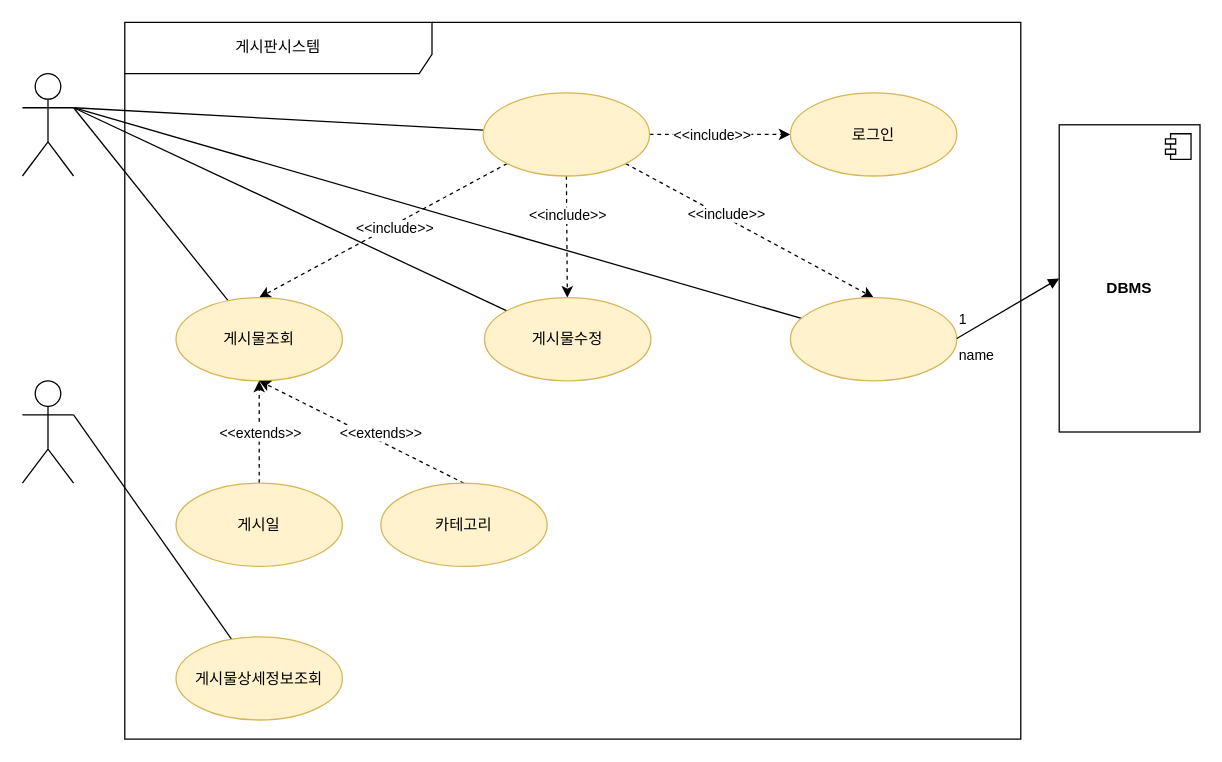
Some shapes in this 1222 by 762 pixel diagram are drawn without their labels. The shapes that lost their labels are listed below. From the top down, each one's centre as x and y in pixels, then its label:
At [47,124]: "이용자".
At [566,134]: "게시물등록".
At [873,338]: "게시물삭제".
At [47,431]: "관리자".
